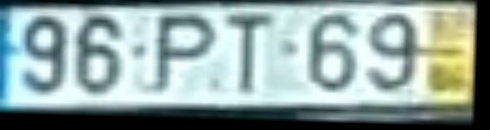6: (71, 13, 130, 102), (305, 12, 363, 99)
9: (363, 9, 422, 98), (20, 14, 73, 101)
P: (152, 13, 224, 98)
T: (221, 11, 277, 104)
